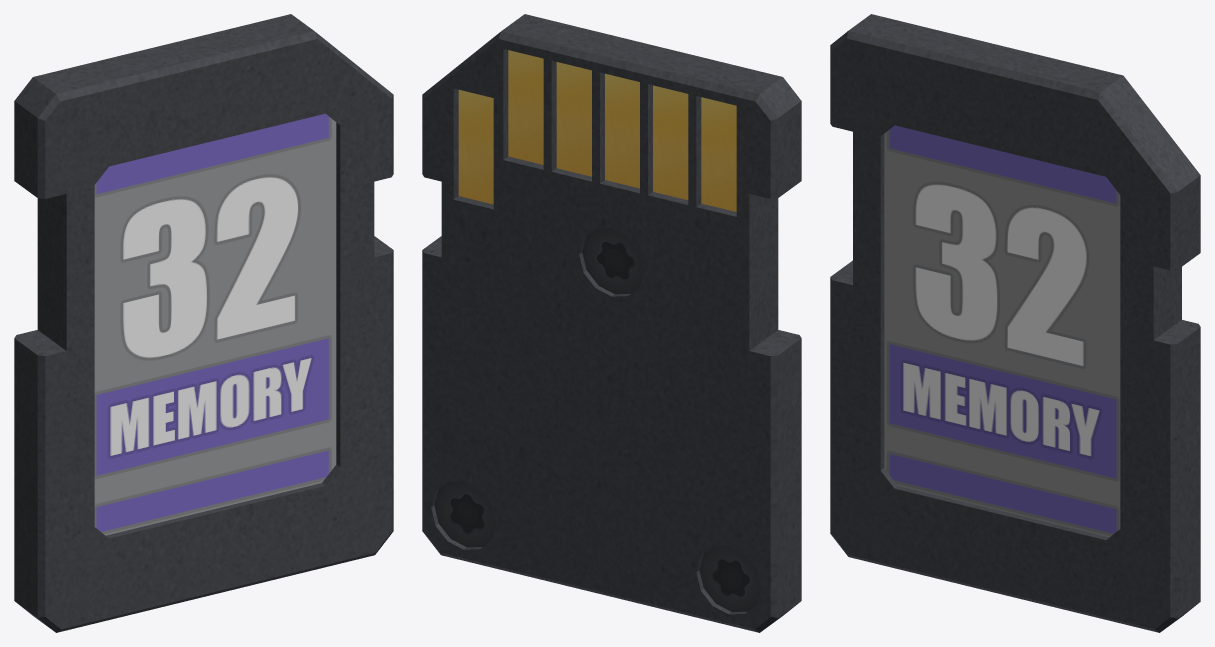
Rendered from item-memoryCard01.glb.
The picture shows the model from 3 angles, left to right: view 1: azimuth 30°, elevation 25°; view 2: azimuth 150°, elevation 25°; view 3: azimuth 330°, elevation 25°; orthographic projection. The views are drawn at different scales.
Visible parts, largest first — view 1: memoryCard01; view 2: memoryCard01; view 3: memoryCard01.
Part boxes in pixels (left/top/right/bottom): memoryCard01: left=14, top=14, right=393, bottom=632; memoryCard01: left=422, top=14, right=801, bottom=632; memoryCard01: left=830, top=14, right=1200, bottom=632.
Bounding box in the file's own units: 0.3363 × 0.4866 × 0.0474.
Materials: 1 (1 with a texture image).
